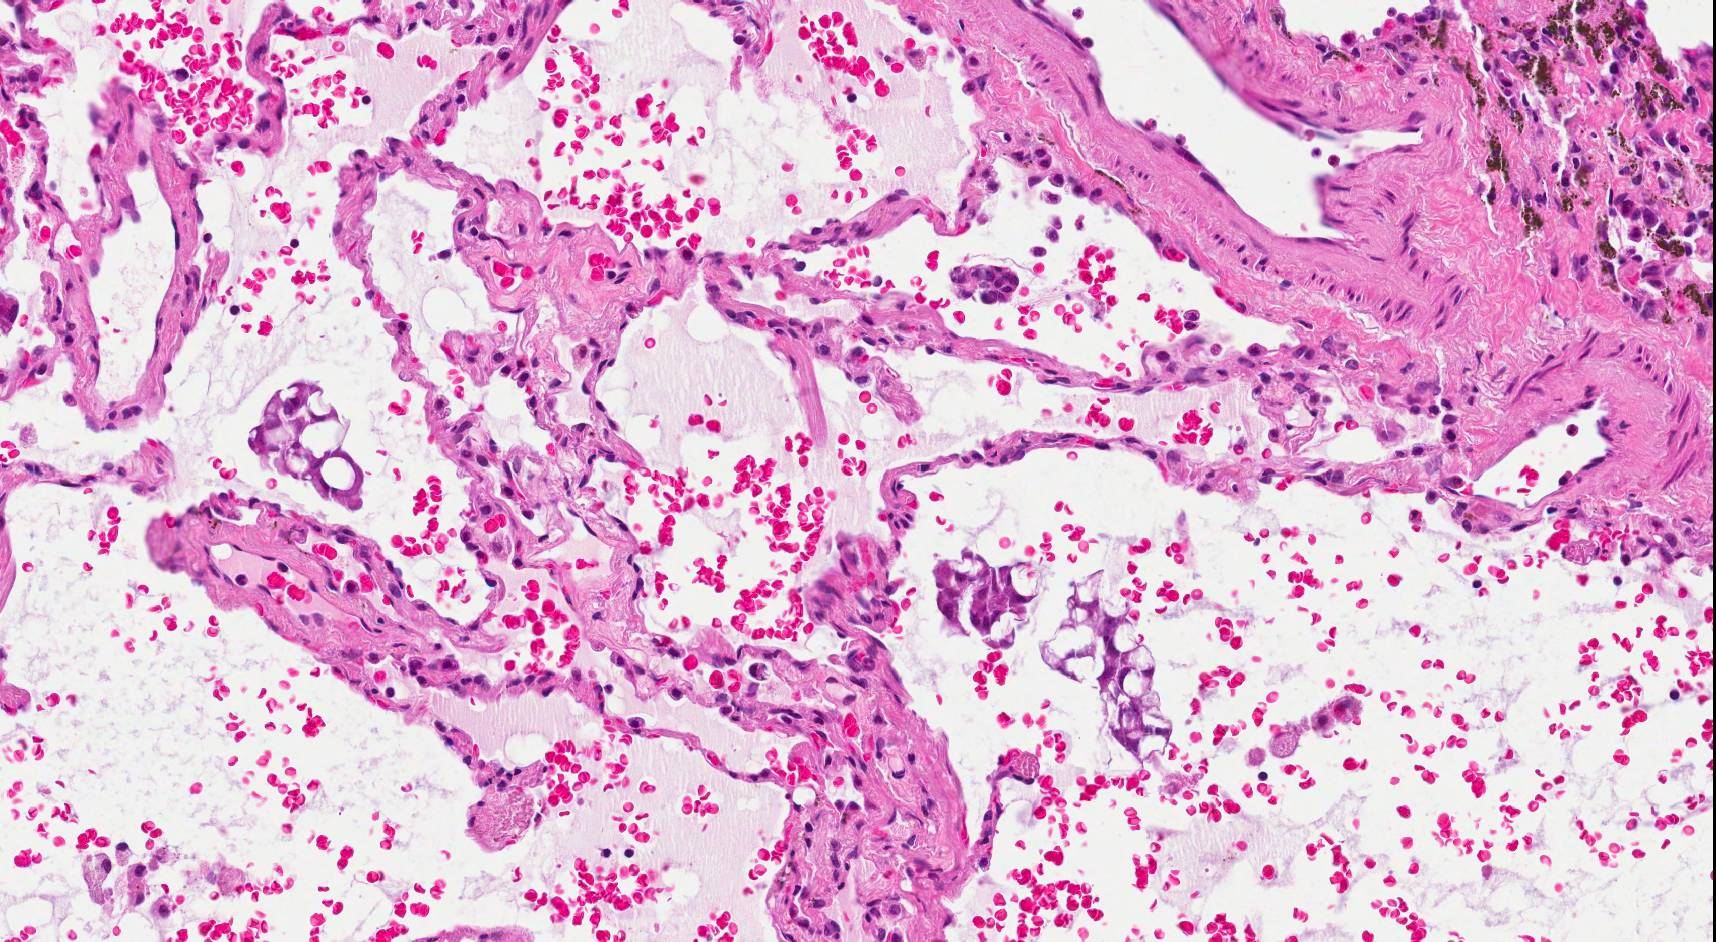stas: (1040, 565, 1184, 768), (244, 378, 369, 513), (931, 539, 1045, 657), (947, 259, 1027, 309)
